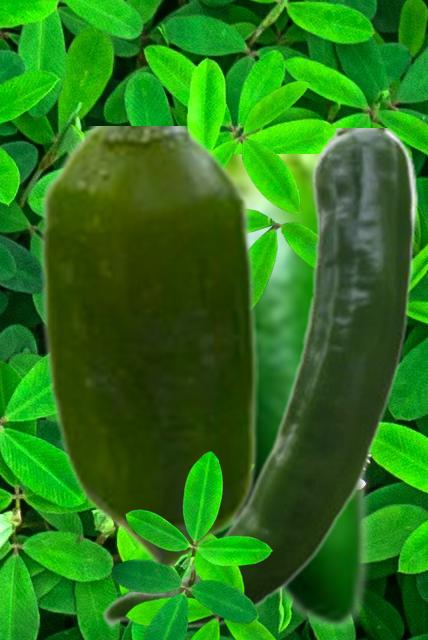green_chili: (101, 128, 418, 631), (38, 126, 257, 570), (229, 154, 370, 632)
